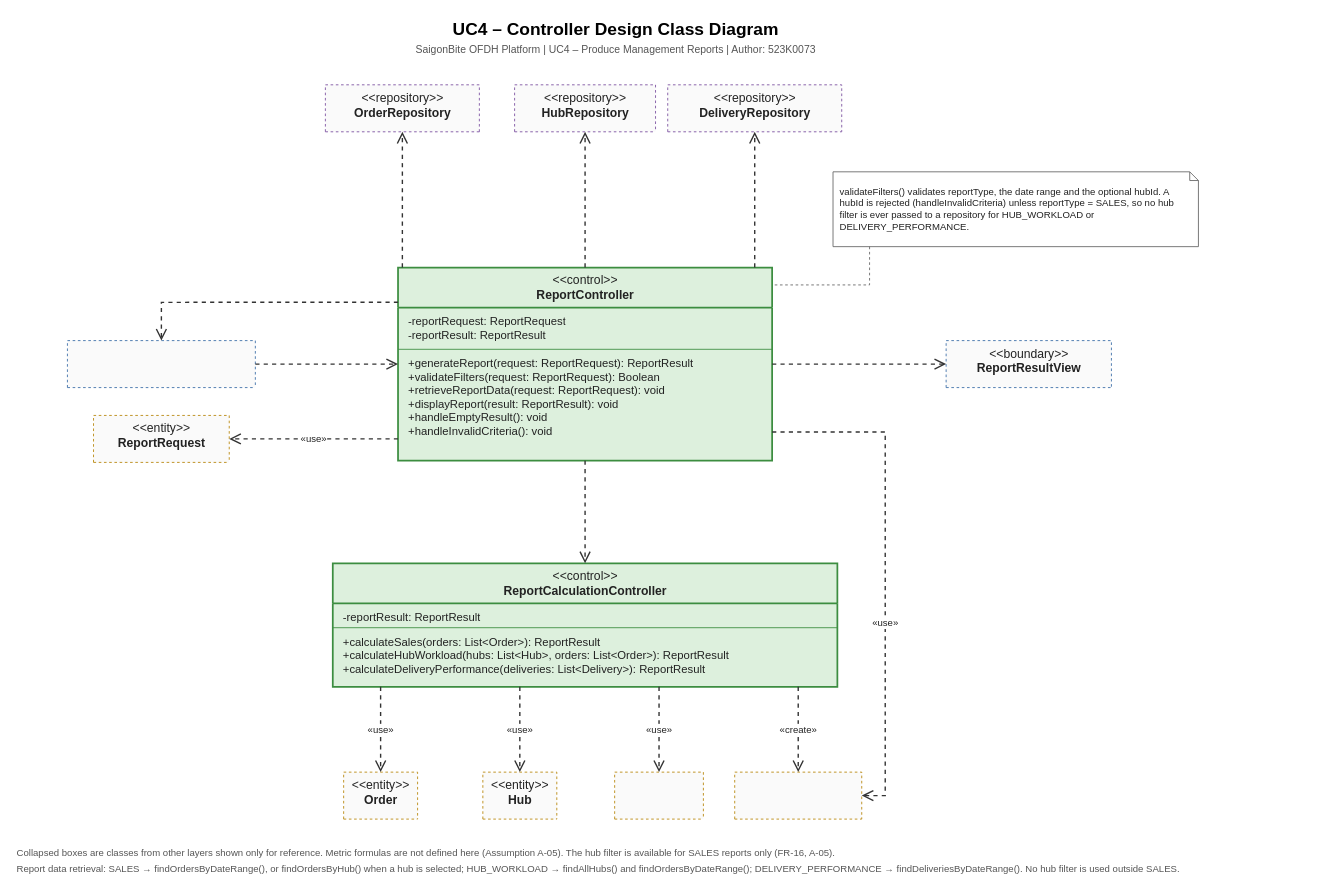
This 1335x889 diagram has some shape labels left out. The shapes that lost their labels are listed below. From the top down, each one's centre as x and y in pixels, then its label:
[161,364]: <<boundary>> ReportSelectionView
[658,795]: <<entity>> Delivery
[798,795]: <<entity>> ReportResult
